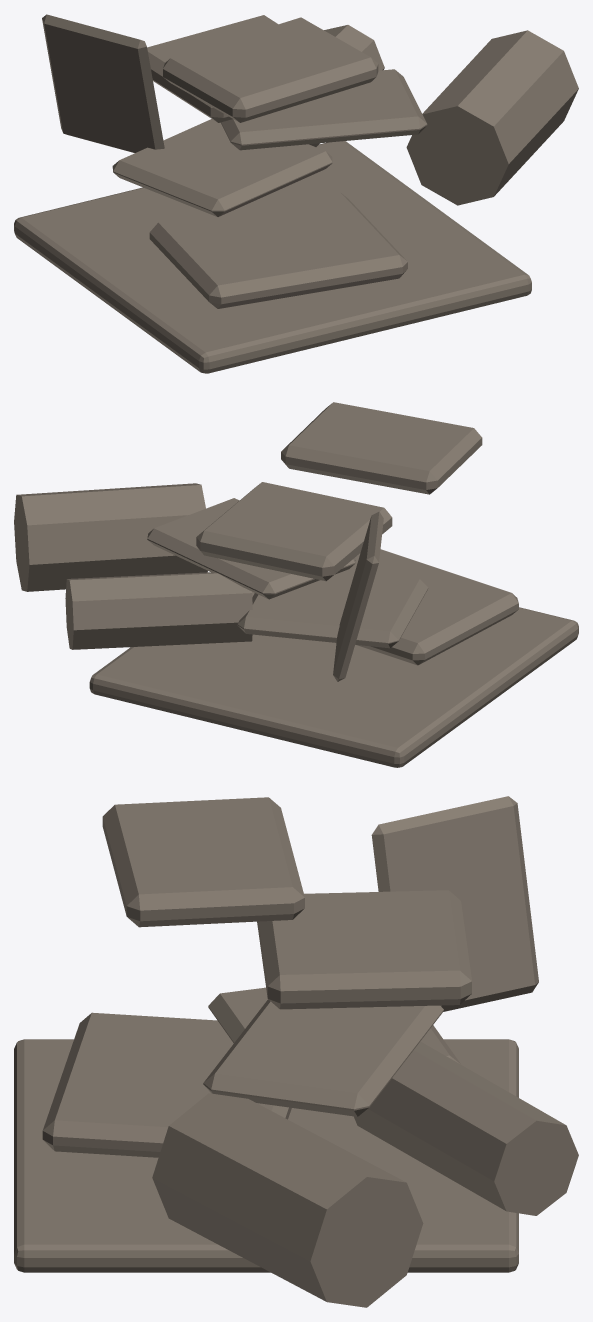
File: scrap_2.glb
The picture shows the model from 3 angles, top to bottom: view 1: azimuth 30°, elevation 25°; view 2: azimuth 150°, elevation 25°; view 3: azimuth 270°, elevation 25°; orthographic projection. The views are drawn at different scales.
Visible parts, largest first — view 1: scrap; view 2: scrap; view 3: scrap.
Part boxes in pixels (x1,y1,x2,y2): scrap: (14,14,578,373); scrap: (14,402,578,767); scrap: (14,796,578,1307).
Bounding box in the file's own units: 0.7279 × 0.3321 × 0.5536.
